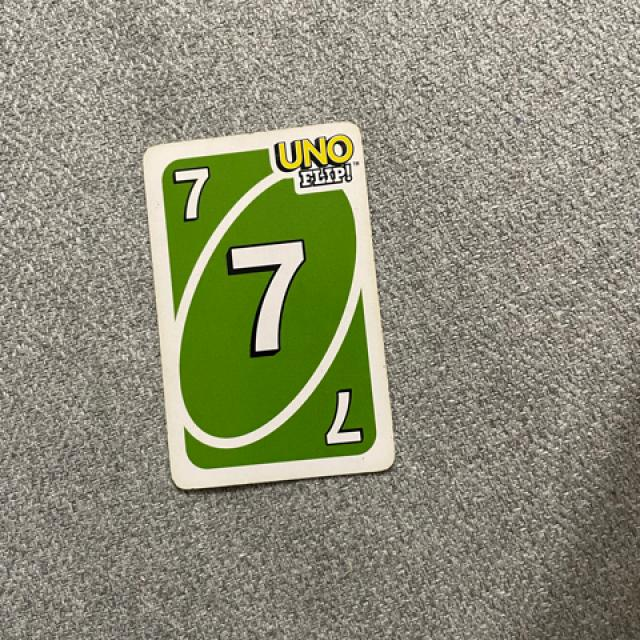lgreen-7: (155, 155, 230, 232)
